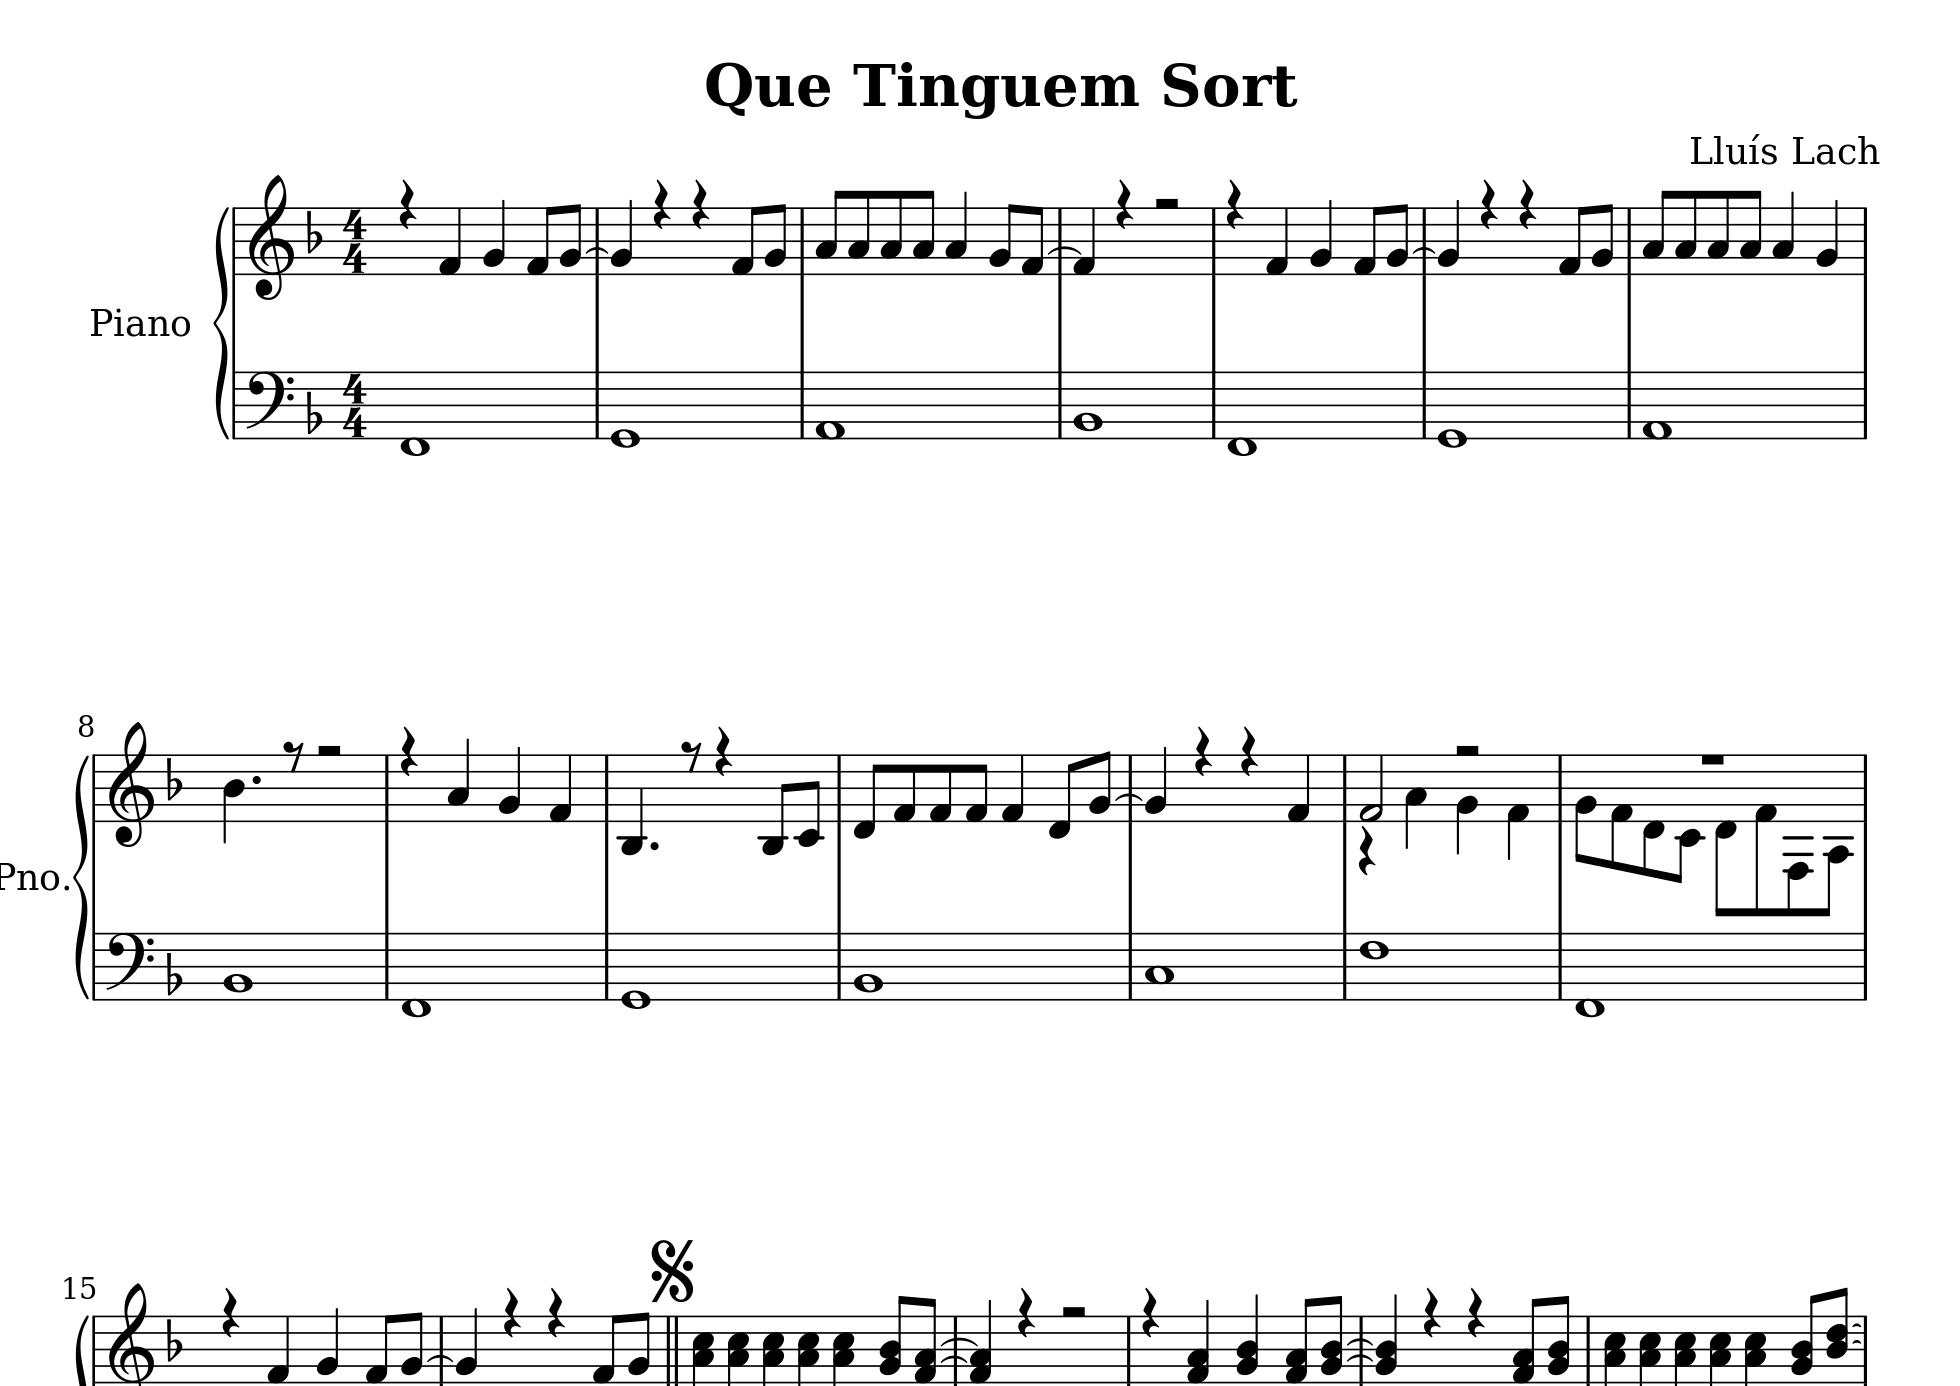1: (61, 1273, 76, 1300)
16_-1: (1641, 750, 1666, 879)
16_-2: (1674, 754, 1704, 885)
16_1: (1609, 751, 1633, 871)
1_-1: (400, 928, 433, 1020), (1227, 369, 1260, 457), (400, 369, 430, 457), (1576, 930, 1606, 1018)
1_0: (619, 928, 652, 1011), (1437, 367, 1468, 450), (610, 367, 640, 450)
1_1: (1641, 369, 1674, 442), (814, 369, 846, 442)
1_2: (220, 928, 255, 1002), (1071, 369, 1105, 441), (852, 930, 885, 1002)
1_3: (1144, 930, 1173, 1000)
1_6: (1359, 931, 1390, 1003)
2_1: (1357, 751, 1386, 823)
4: (340, 205, 370, 241), (340, 370, 369, 405), (340, 240, 369, 273), (340, 405, 367, 438)
4_-3: (618, 750, 645, 856)
4_1: (436, 205, 463, 277), (547, 751, 574, 823), (999, 751, 1026, 823), (265, 1312, 292, 1384), (1071, 205, 1098, 276), (1285, 753, 1312, 823), (1264, 205, 1290, 276)
4_1_3: (1186, 1299, 1212, 1386), (969, 1300, 994, 1386)
4_2: (1455, 754, 1479, 856), (496, 744, 523, 823), (1308, 198, 1335, 276), (313, 1306, 340, 1384), (1815, 196, 1840, 276), (1144, 744, 1170, 823), (454, 1305, 480, 1384), (481, 198, 507, 276), (609, 198, 634, 276), (1437, 198, 1462, 276)
4_2_4: (1234, 1293, 1261, 1386), (1374, 1293, 1399, 1386)
4_3: (1404, 751, 1428, 850), (1771, 190, 1797, 276), (445, 736, 471, 822), (943, 190, 969, 274)
4_4: (220, 751, 246, 844)
5: (79, 1273, 96, 1300)
8: (76, 711, 94, 738)
8_-1: (1713, 751, 1738, 919), (1045, 751, 1080, 841), (850, 751, 883, 840)
8_-2: (793, 751, 825, 847)
8_-3: (757, 751, 790, 856)
8_-4: (1819, 751, 1854, 915)
8_-6: (1782, 750, 1815, 913)
8_1: (1752, 751, 1777, 919), (1506, 751, 1530, 862), (589, 1312, 622, 1384), (523, 202, 555, 276), (729, 204, 760, 277), (363, 1311, 394, 1384), (1351, 204, 1383, 276), (1557, 204, 1587, 276), (927, 751, 952, 823), (964, 751, 990, 823), (1020, 204, 1044, 277), (892, 751, 916, 823)
8_1_3: (1284, 1297, 1318, 1386), (1791, 1293, 1821, 1386), (1512, 1297, 1543, 1386), (913, 1294, 939, 1386)
8_2: (1575, 751, 1597, 864), (987, 201, 1017, 276), (399, 1309, 424, 1384), (1087, 748, 1113, 822), (763, 201, 787, 276), (1386, 201, 1410, 276), (1590, 201, 1614, 276), (627, 1309, 651, 1384), (558, 201, 582, 274)
8_2_4: (877, 1296, 910, 1386), (1827, 1285, 1851, 1386), (1318, 1294, 1344, 1386), (1546, 1294, 1572, 1386)
8_3: (1641, 189, 1672, 276), (814, 189, 844, 274), (879, 189, 904, 276), (847, 187, 871, 277), (910, 187, 934, 276), (1707, 187, 1731, 276), (1738, 187, 1762, 276), (1674, 189, 1698, 276)
Brace: (70, 750, 91, 1000), (211, 204, 231, 439)
Double_barline: (661, 1312, 682, 1384)
Fclef: (103, 930, 154, 1002), (244, 369, 294, 441)
Flat: (163, 754, 184, 802), (163, 1315, 184, 1363), (163, 949, 184, 996), (303, 208, 322, 256), (304, 388, 322, 433)
Gclef: (106, 718, 156, 847), (247, 174, 295, 301), (106, 1281, 156, 1386)
Pno: (88, 304, 193, 339), (1, 859, 60, 894)
Rests1: (1698, 750, 1728, 768)
Rests2: (1057, 1300, 1090, 1321), (1452, 739, 1483, 760), (313, 739, 345, 759), (1152, 193, 1183, 211)
Rests4: (1464, 1285, 1488, 1341), (1015, 1285, 1038, 1342), (688, 177, 711, 231), (1516, 177, 1539, 231), (1140, 1285, 1162, 1339), (397, 177, 418, 232), (651, 177, 672, 232), (1479, 177, 1500, 232), (1224, 177, 1245, 231), (1192, 724, 1213, 778), (1239, 724, 1260, 778), (501, 1285, 522, 1339), (1422, 1287, 1443, 1341), (397, 724, 418, 777), (712, 724, 733, 777), (544, 1285, 565, 1338), (1114, 177, 1134, 232), (1356, 826, 1377, 877), (220, 1285, 240, 1339)
Rests8: (679, 736, 703, 772), (282, 738, 304, 772)
Segno: (646, 1234, 697, 1303)
Single_barline: (829, 754, 847, 823), (1581, 1314, 1599, 1383), (1551, 931, 1569, 999), (1620, 370, 1638, 436), (1120, 1315, 1138, 1381), (1857, 205, 1873, 274), (793, 207, 810, 274), (1621, 207, 1638, 274), (1416, 370, 1432, 438), (1857, 370, 1873, 438), (598, 754, 615, 822), (378, 931, 394, 999), (1206, 208, 1222, 274), (588, 370, 604, 436), (793, 370, 810, 436), (1051, 370, 1068, 436), (1206, 372, 1222, 438), (1122, 931, 1138, 997), (1336, 931, 1353, 997), (831, 933, 847, 997), (226, 207, 241, 274), (1338, 754, 1353, 820), (1857, 754, 1872, 820), (379, 754, 394, 820), (1552, 754, 1567, 820), (598, 933, 613, 999), (1857, 933, 1872, 999), (88, 1315, 103, 1380), (88, 931, 102, 999), (1858, 1314, 1872, 1381), (88, 754, 102, 820), (229, 370, 241, 438)
Slur: (1048, 243, 1083, 255), (940, 1335, 978, 1345), (1114, 790, 1143, 802), (426, 1353, 454, 1363), (1347, 1353, 1375, 1363), (940, 1353, 967, 1363), (1347, 1336, 1374, 1345), (583, 244, 609, 253), (1411, 244, 1437, 253)
TimeSig: (340, 370, 370, 438), (340, 207, 369, 274)
dot: (247, 772, 262, 787), (648, 838, 661, 852)
